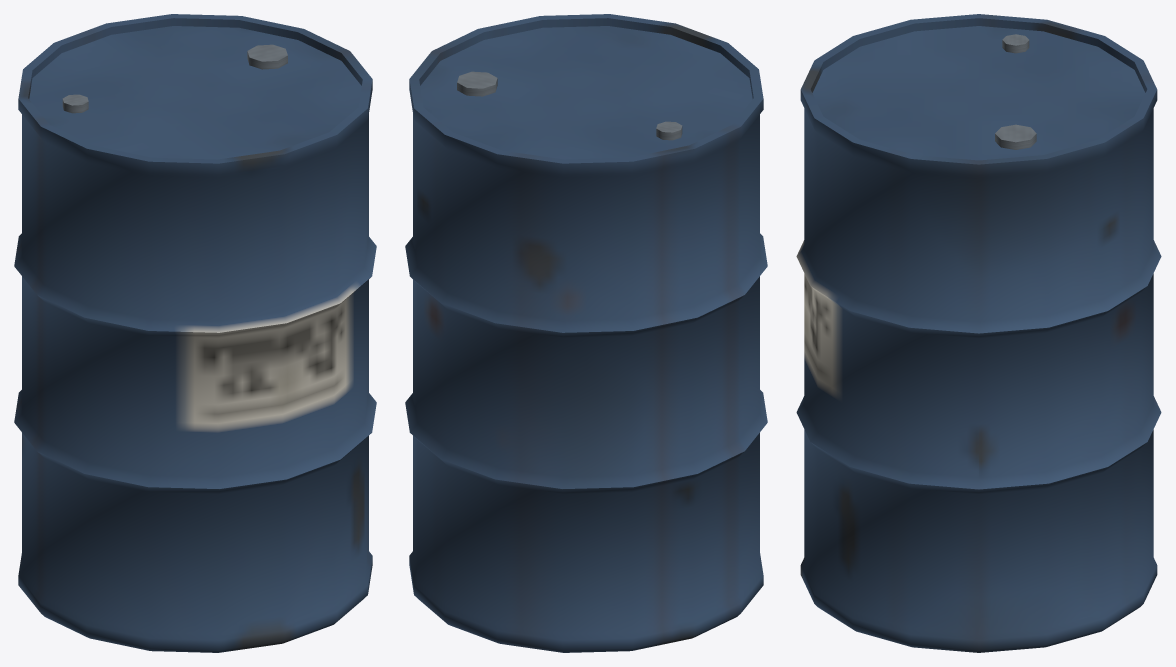
File: drum_steel_blue.fbx
The picture shows the model from 3 angles, left to right: view 1: azimuth 30°, elevation 25°; view 2: azimuth 150°, elevation 25°; view 3: azimuth 270°, elevation 25°; orthographic projection.
Visible parts, largest first — view 1: drum_steel_blue; view 2: drum_steel_blue; view 3: drum_steel_blue.
Part boxes in pixels (box(x1,y1,x2,y2)): drum_steel_blue: box(14, 14, 376, 652); drum_steel_blue: box(405, 14, 767, 652); drum_steel_blue: box(796, 14, 1161, 652).
Bounding box in the file's own units: 0.594 × 0.88 × 0.594.
Materials: 1 (1 with a texture image).
